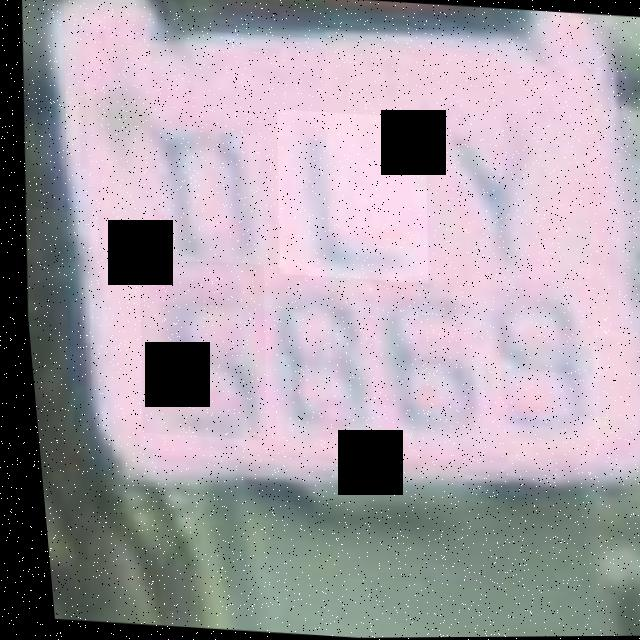5: (122, 256, 270, 441)
6: (345, 275, 495, 464)
9: (454, 274, 603, 458)
D: (133, 89, 279, 282)
L: (263, 108, 434, 284)
Y: (418, 96, 572, 293)
